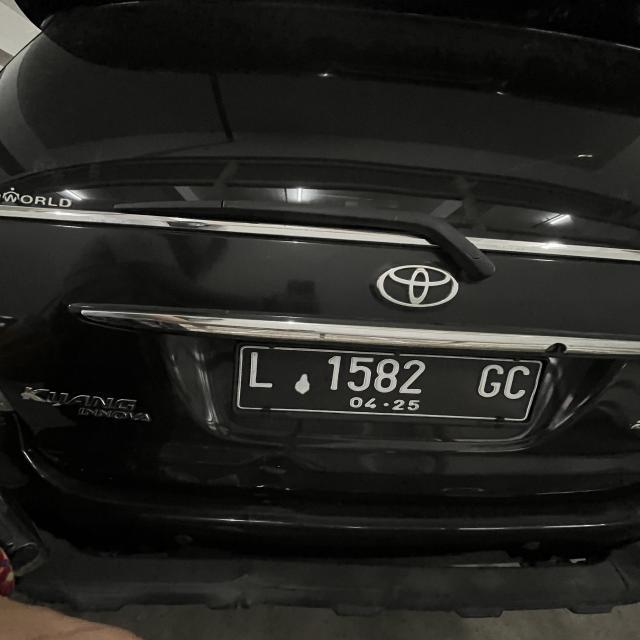1: (324, 354, 341, 392)
2: (399, 358, 428, 397)
5: (346, 354, 374, 392)
8: (374, 354, 398, 394)
C: (504, 365, 530, 400)
G: (477, 364, 502, 398)
L: (246, 348, 277, 394)
